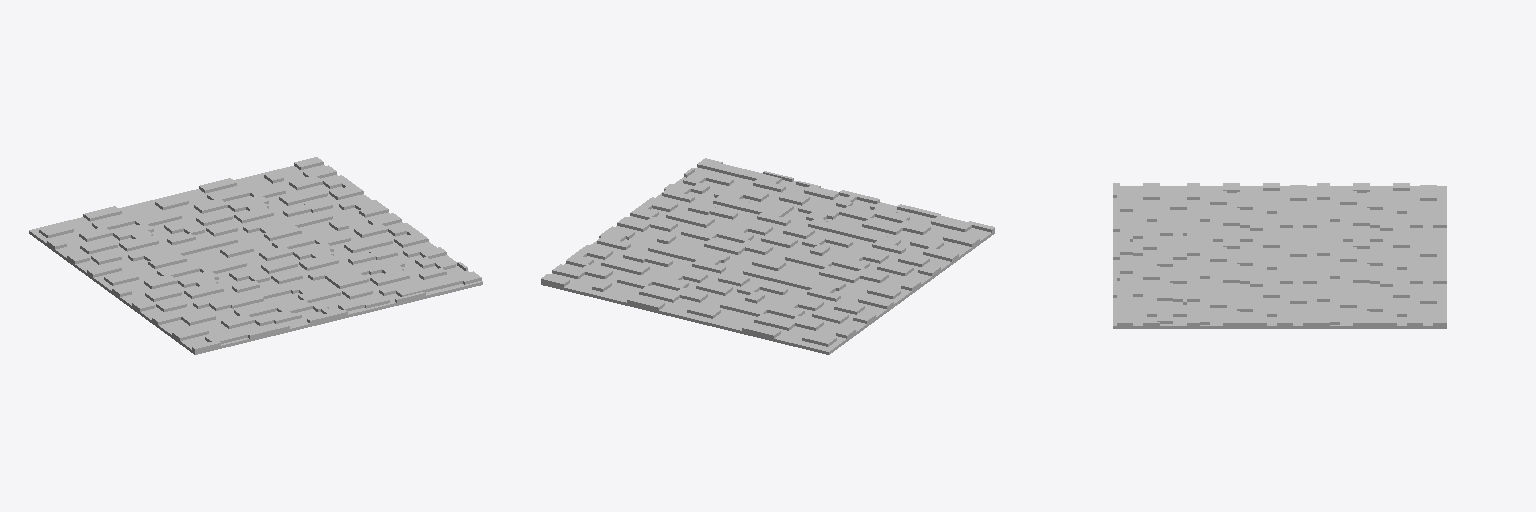
The model's file is Floor2b.obj.
The picture shows the model from 3 angles: view 1: azimuth 30°, elevation 25°; view 2: azimuth 150°, elevation 25°; view 3: azimuth 270°, elevation 25°; orthographic projection.
Parts seen in each view (by area): view 1: object 1; view 2: object 1; view 3: object 1.
Part boxes in pixels (x1,y1,x2,y2): object 1: (29,157,482,354); object 1: (541,158,994,354); object 1: (1113,183,1446,328).
Size of the model in its own units: 10 by 0.2 by 10.